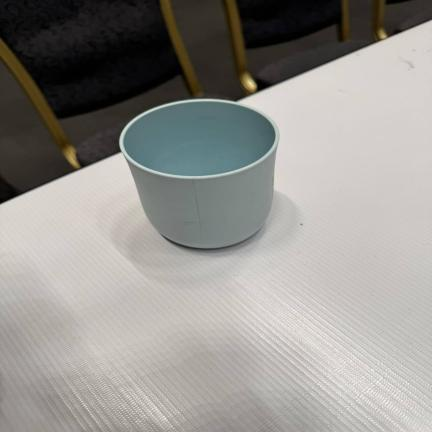cup: (120, 100, 279, 248)
